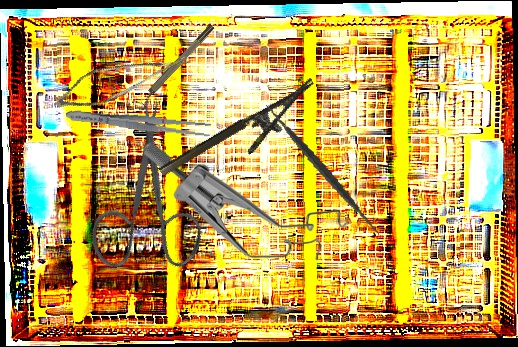Dressing Forceps: (64, 105, 212, 140)
Fixation Ring: (131, 22, 220, 113)
Iris Scissors: (39, 94, 246, 304)
Micro Scissor: (50, 25, 193, 131)
Needle Holder: (157, 77, 329, 198)
Spatula Surgical: (247, 95, 398, 245)
Speculum: (144, 142, 349, 262)
